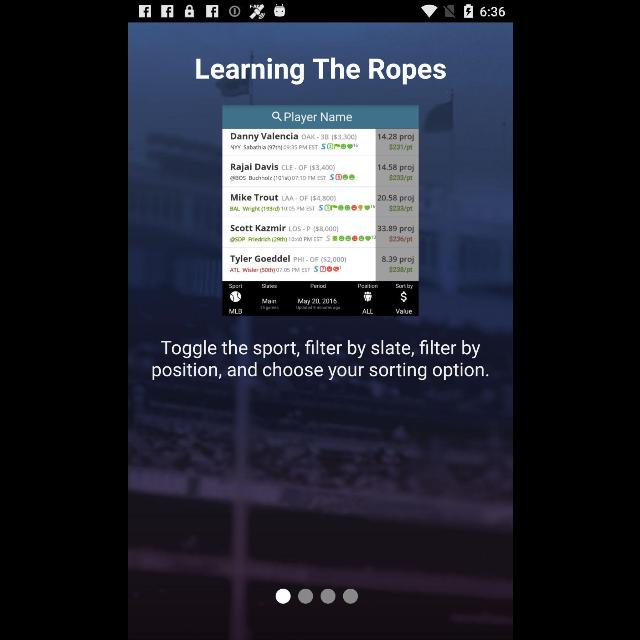backgroundimage: (128, 22, 512, 640)
image: (222, 104, 418, 316)
pageindicator: (274, 588, 358, 604)
text: (151, 339, 489, 381), (195, 57, 445, 85)
uppertaskbar: (128, 1, 512, 23)
